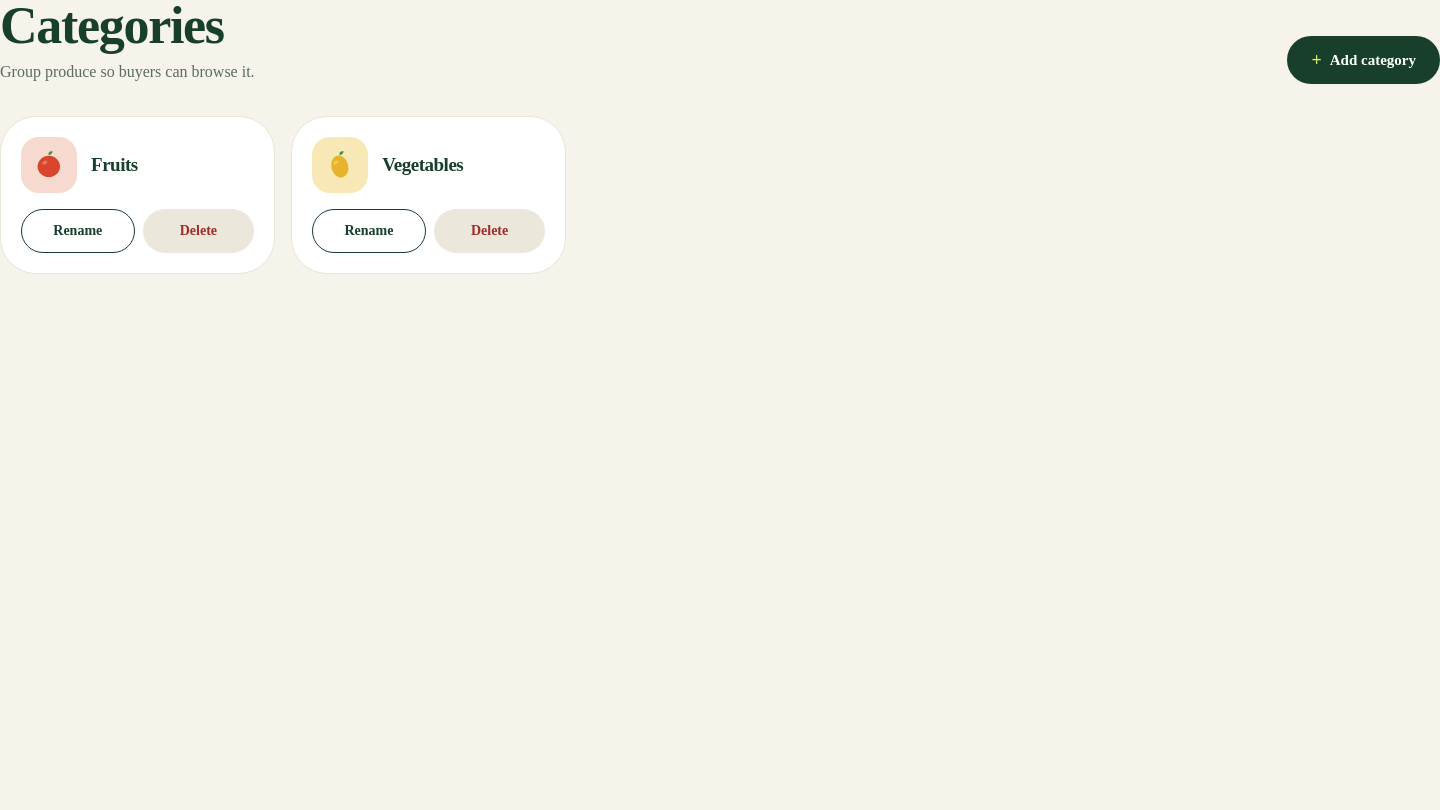
Test: CategoryManager › deletes a category after confirmation
The image size is (1440, 810).
Expected: the heading "Fruits" is shown, [91,151,138,179]
What coordinates should you click on to do the following:
click the button with aria-label "Delete Fruits"
I would click on:
 (198, 231)
Its box is [143,209,254,253].
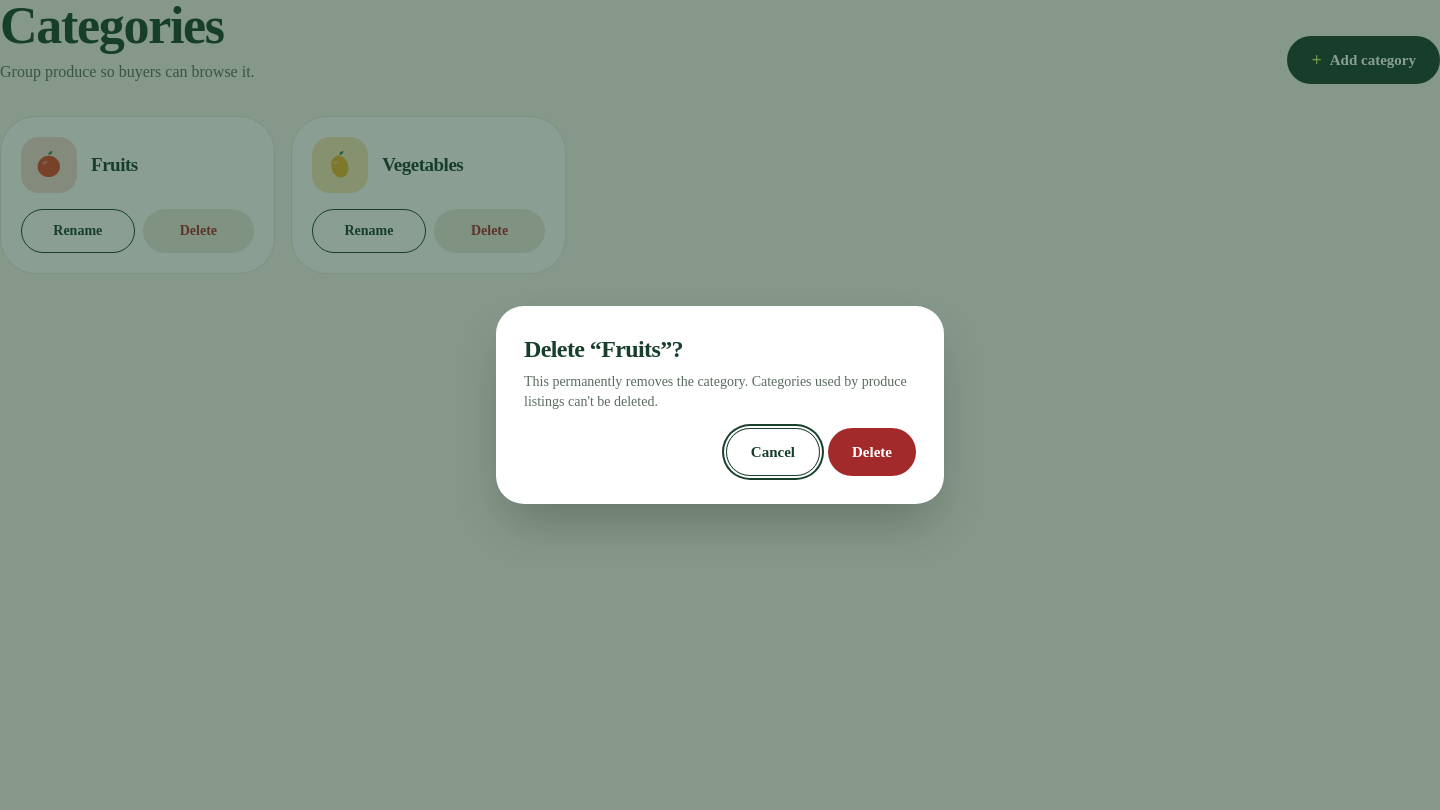
What coordinates should you click on to do the following:
click the button "Delete"
I would click on:
 (872, 452)
Its box is [828,428,916,476].
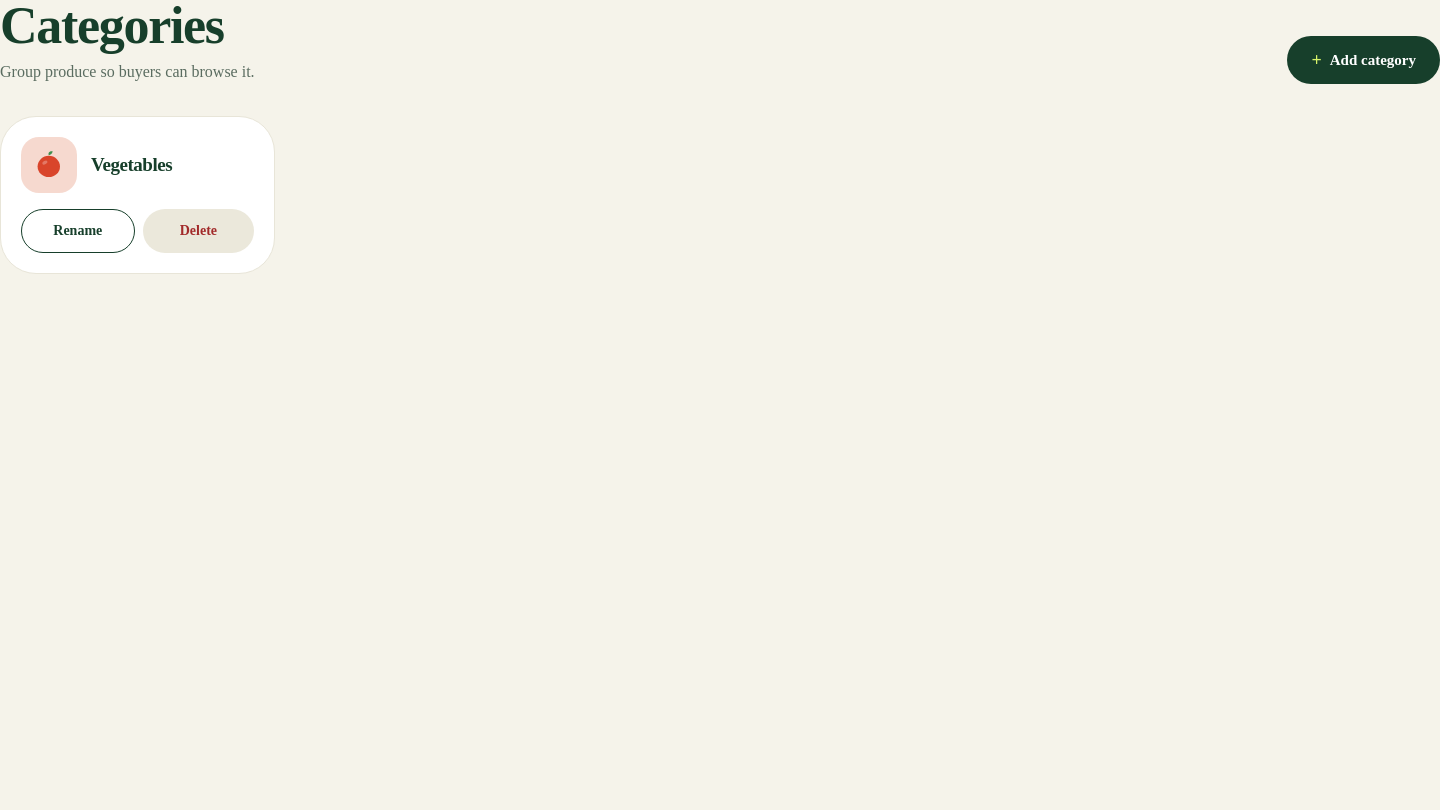
Expected: the heading "Fruits" is gone
